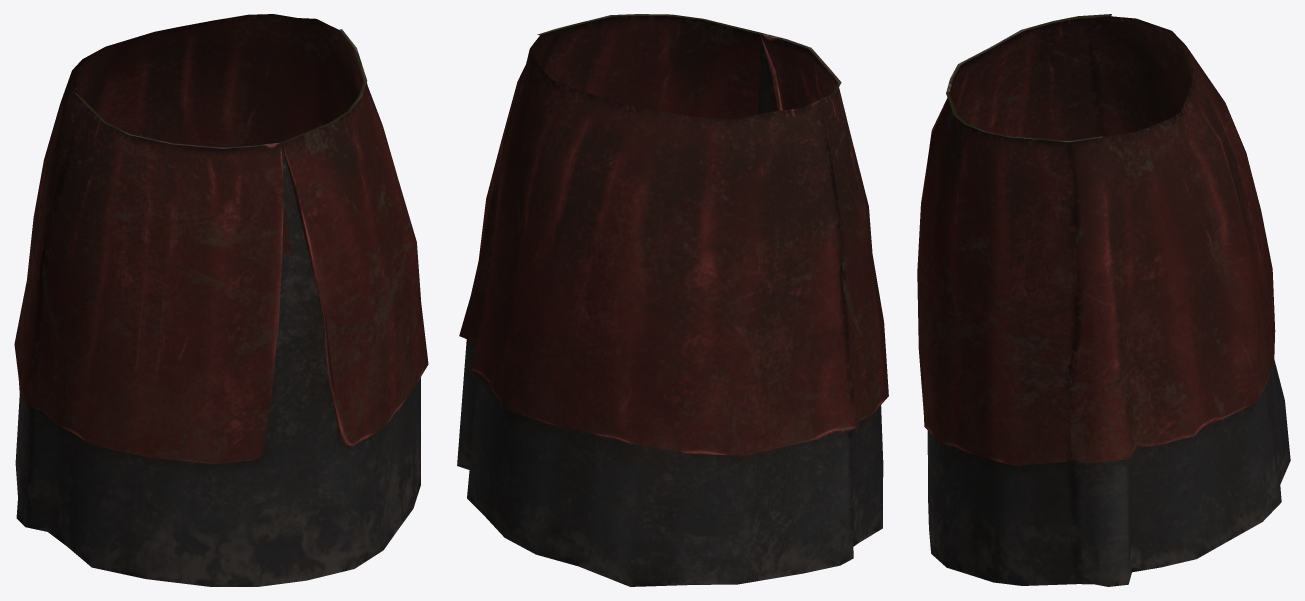
Rendered from clo_cts_gondor_armor3.fbx.
3 views of the same model, side by side, from view 1: azimuth 30°, elevation 25°; view 2: azimuth 150°, elevation 25°; view 3: azimuth 270°, elevation 25° (orthographic). The views are drawn at different scales.
Visible parts, largest first — view 1: clo_cts_gondor_armor3; view 2: clo_cts_gondor_armor3; view 3: clo_cts_gondor_armor3.
Boxes of the visible parts, x1,y1,x2,y2 form: clo_cts_gondor_armor3: (14, 14, 428, 586); clo_cts_gondor_armor3: (457, 14, 888, 586); clo_cts_gondor_armor3: (917, 14, 1290, 586).
Bounding box in the file's own units: 0.5223 × 0.4498 × 0.6017.
1 material, 1 textured.
